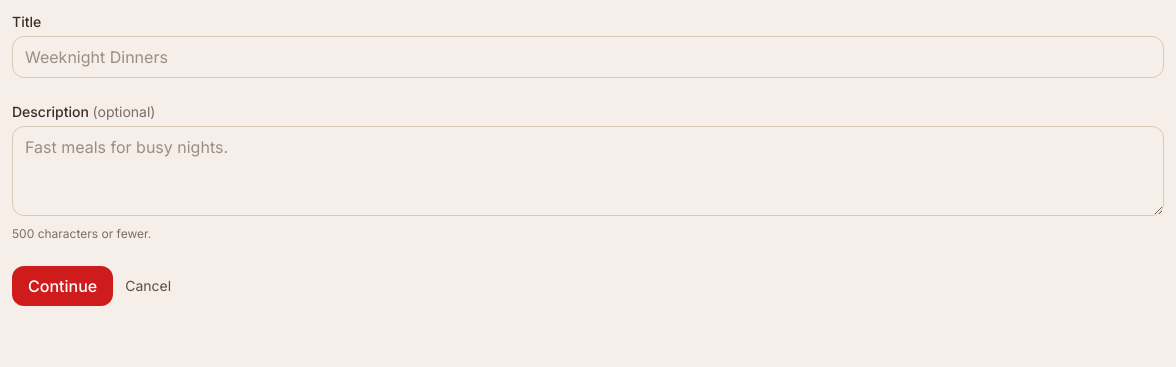
Test: CookbookForm › surfaces a server error in an alert and marks the title invalid
Click the button "Continue": (63, 286) x1=12 y1=266 x2=113 y2=306
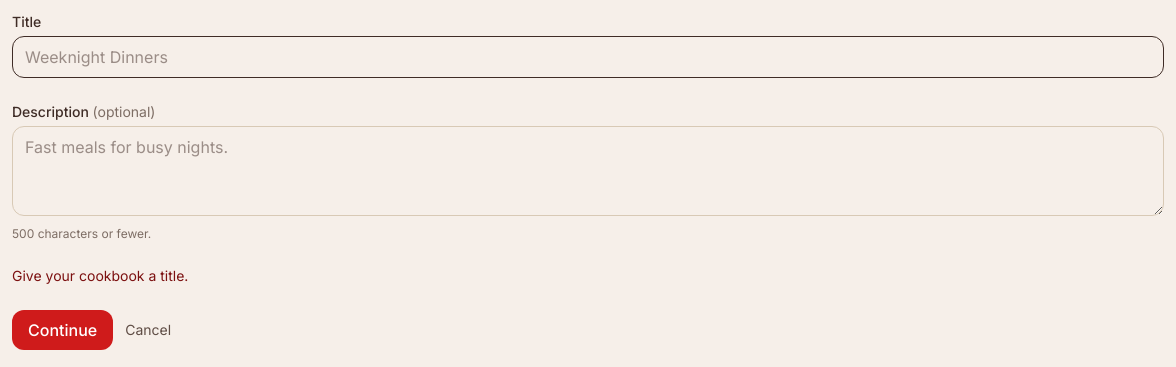
Expected: the message reads "Give your cookbook a title.", x1=12 y1=267 x2=188 y2=284
